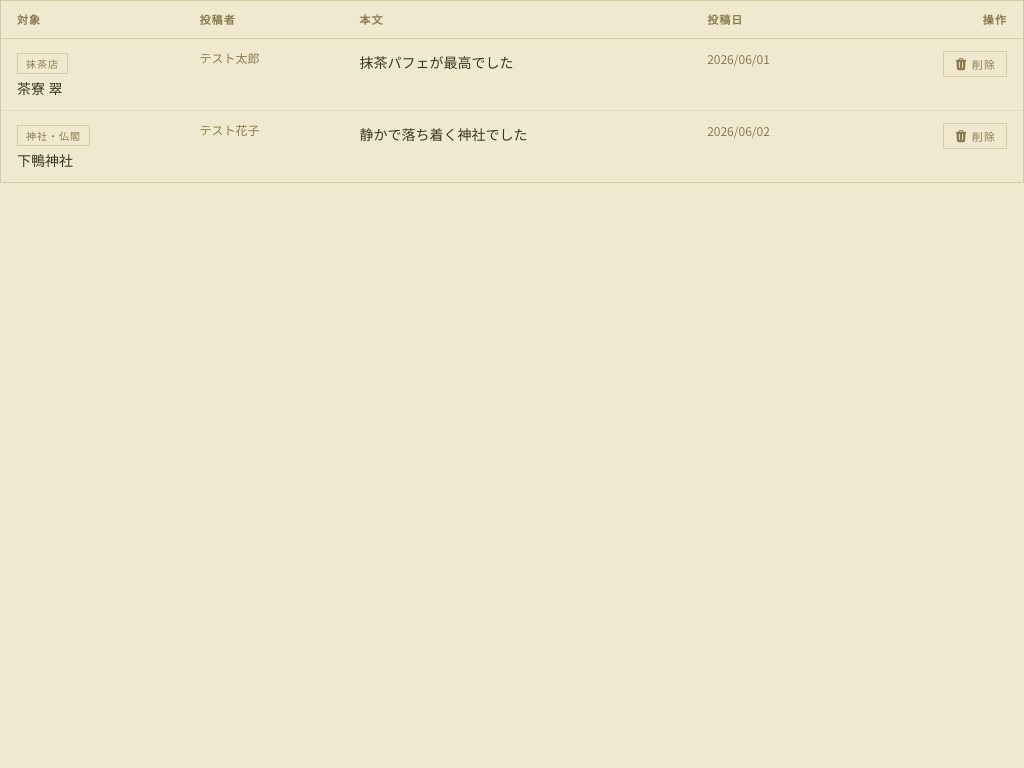
Test case: CommentModerationList — 口コミモデレーション › 削除は確認後に対応するリソースの admin DELETE を呼び一覧を再取得する
Expected: the text "抹茶パフェが最高でした" is shown, [360,54,514,70]
Click the button "削除" in the row of "抹茶店": (975, 64) [943,50,1007,77]
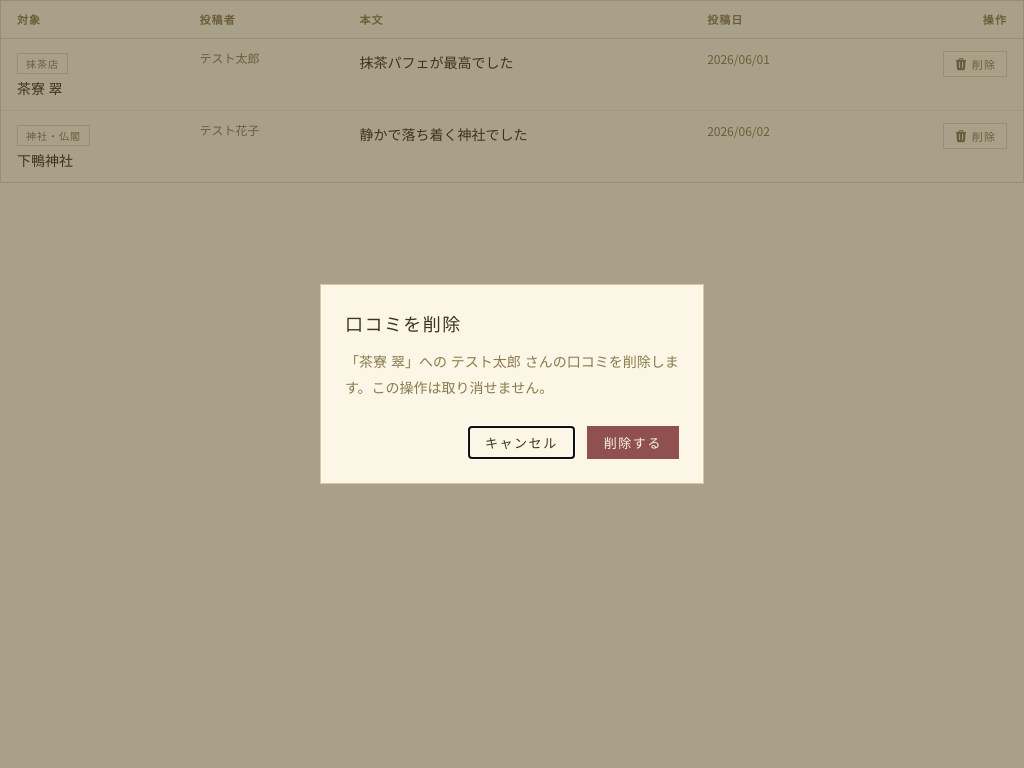
Click the button "削除する": (633, 443) [587,426,679,459]
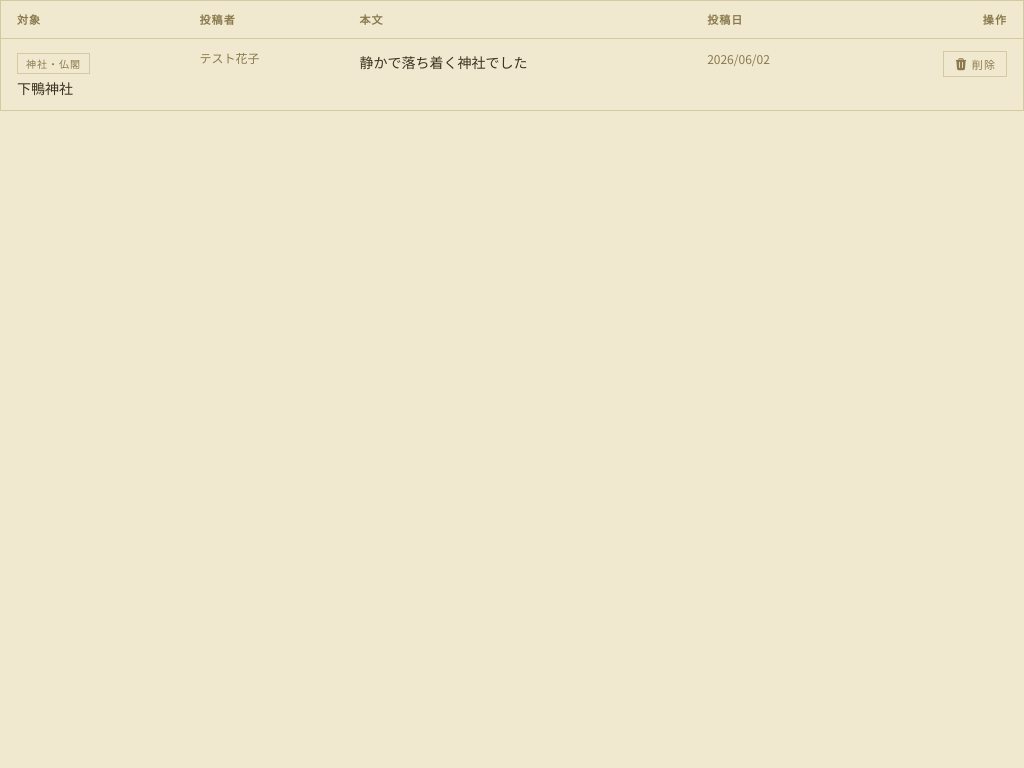
Now the text "抹茶パフェが最高でした" is gone
